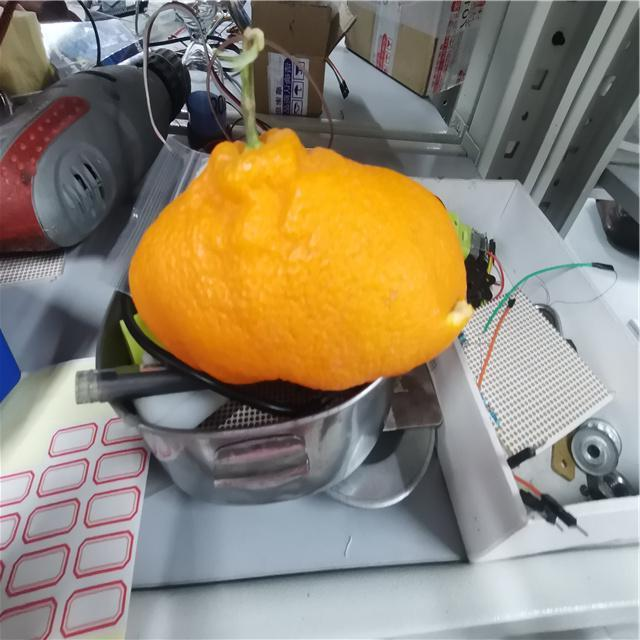orange peel: (127, 126, 470, 394)
